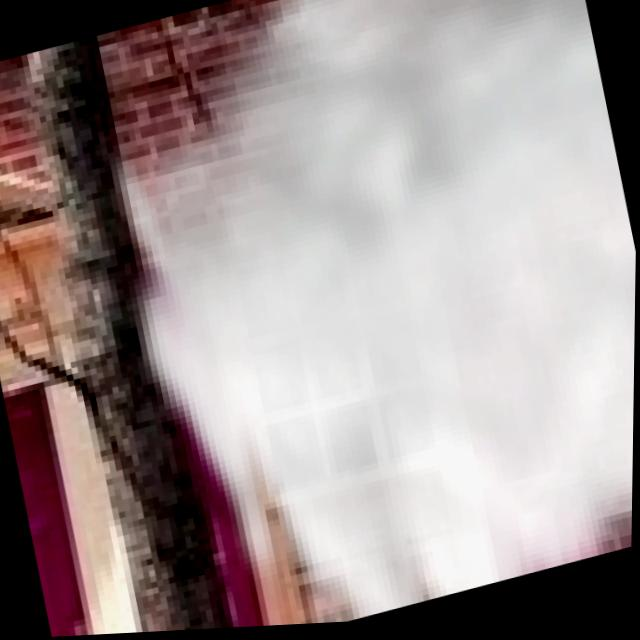smoke: (60, 0, 640, 637)
